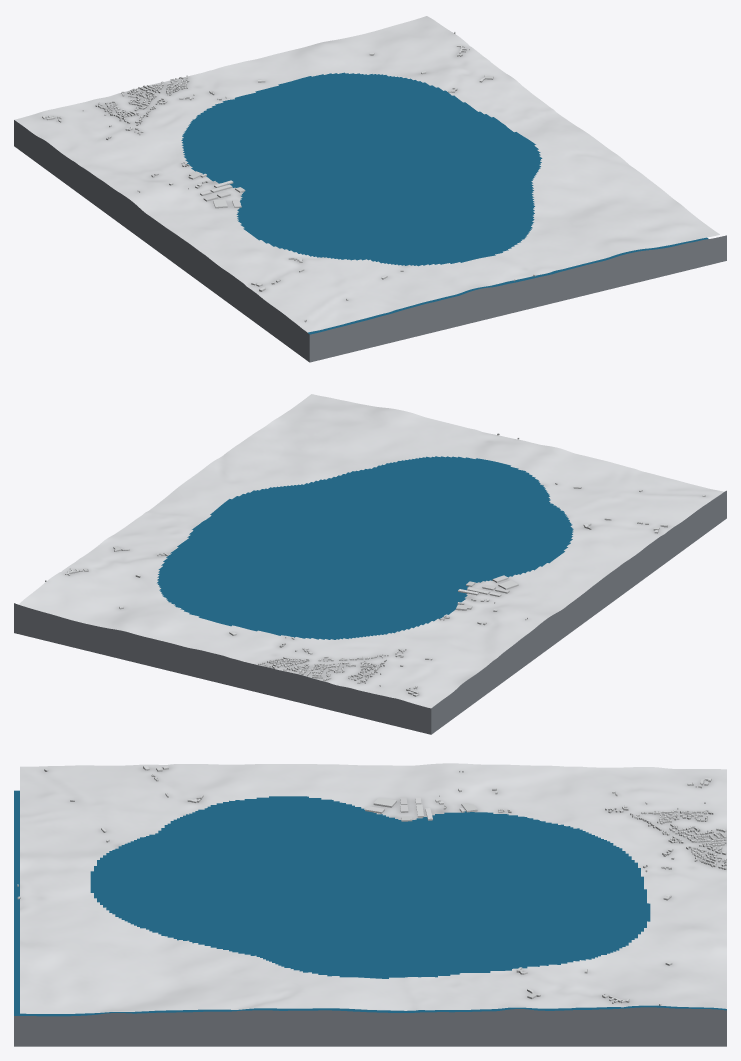
Rendered from far.glb.
3 renders of one model, top to bottom at view 1: azimuth 30°, elevation 25°; view 2: azimuth 150°, elevation 25°; view 3: azimuth 270°, elevation 25°, orthographic. The views are drawn at different scales.
Parts seen in each view (by area): view 1: terrain, water, plinth, building; view 2: terrain, water, plinth, building; view 3: terrain, water, plinth, building.
Part boxes in pixels (box(x1,y1,x2,y2)): terrain: box(14, 16, 719, 332); water: box(181, 72, 708, 334); plinth: box(14, 120, 726, 362); building: box(42, 31, 535, 322); terrain: box(19, 394, 723, 708); water: box(157, 456, 573, 639); plinth: box(14, 490, 726, 734); building: box(45, 433, 705, 696); terrain: box(20, 763, 726, 1013); water: box(14, 790, 726, 1016); plinth: box(14, 1007, 726, 1046); building: box(17, 765, 726, 1005).
Bounding box in the file's own units: 3024 × 232 × 3712.
